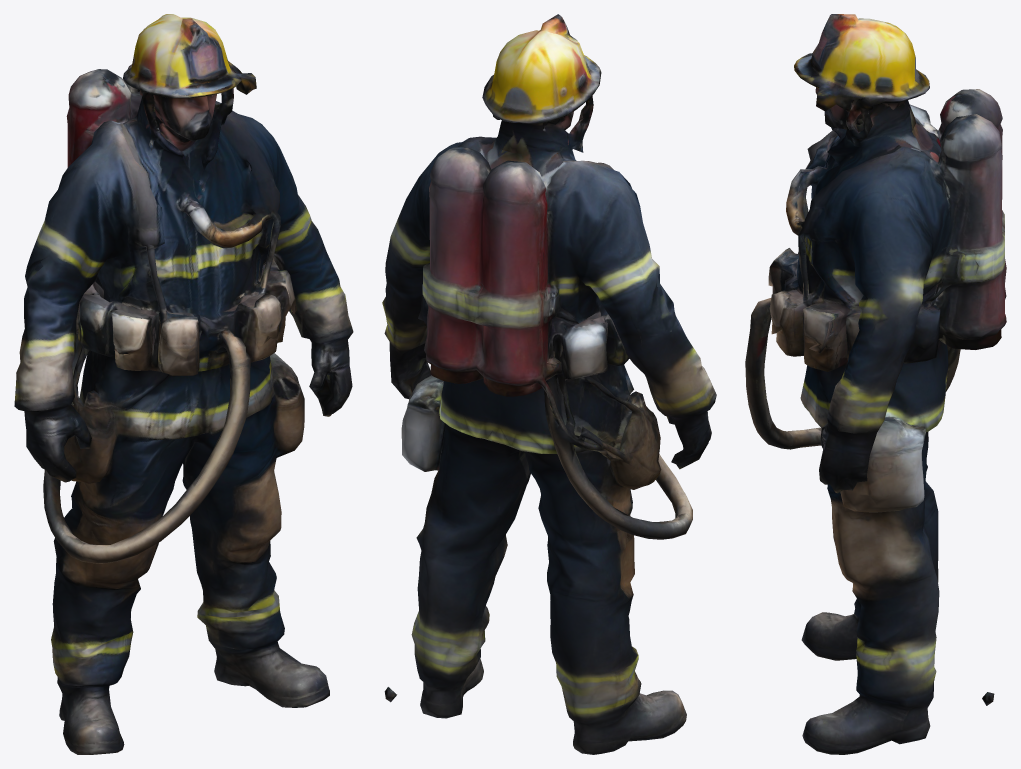
Rendered from A_dressed_firefighter_1125212940_refine.fbx.
3 views of the same model, side by side, from view 1: azimuth 30°, elevation 25°; view 2: azimuth 150°, elevation 25°; view 3: azimuth 270°, elevation 25° (orthographic). The views are drawn at different scales.
Parts seen in each view (by area): view 1: Mesh_0; view 2: Mesh_0; view 3: Mesh_0.
Part boxes in pixels (x1=…): Mesh_0: x1=14, y1=14, x2=353, y2=754; Mesh_0: x1=382, y1=14, x2=716, y2=754; Mesh_0: x1=745, y1=14, x2=1006, y2=754.
Bounding box in the file's own units: 99.38 × 200 × 69.53.
Materials: 1 (1 with a texture image).
